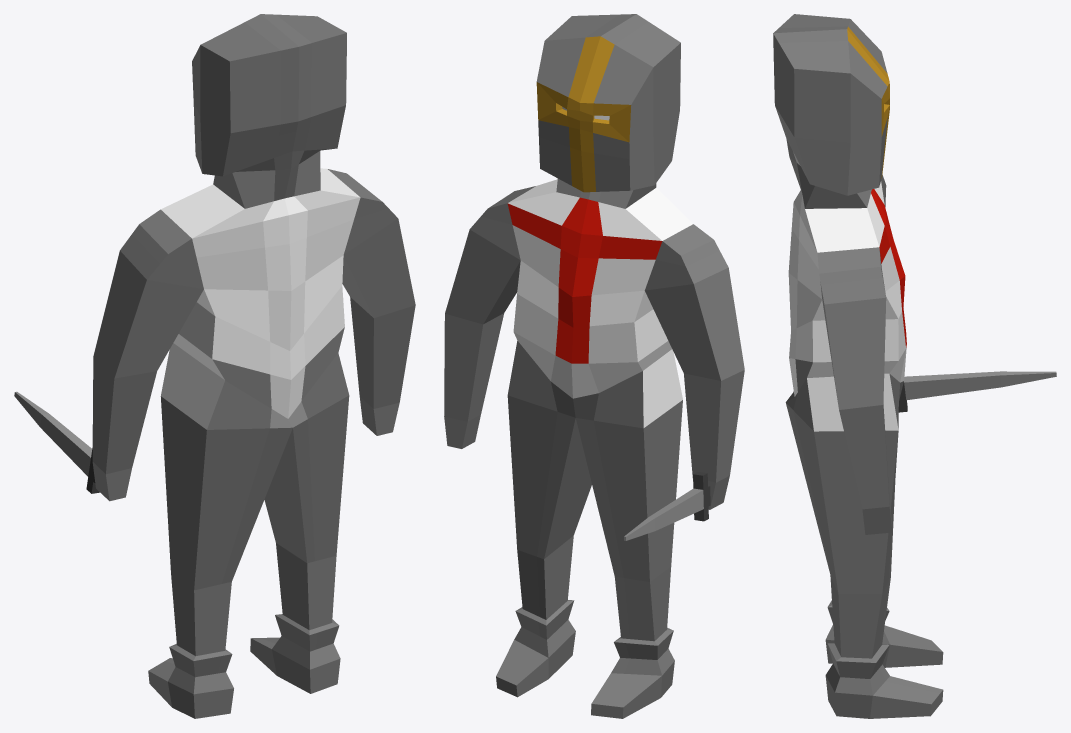
The model's file is KNIGHJT.fbx.
3 renders of one model, left to right at view 1: azimuth 30°, elevation 25°; view 2: azimuth 150°, elevation 25°; view 3: azimuth 270°, elevation 25°, orthographic. The views are drawn at different scales.
Parts seen in each view (by area): view 1: Cube, Cube.001; view 2: Cube, Cube.001; view 3: Cube, Cube.001.
Boxes of the visible parts, box(x1,y1,x2,y2) form: Cube: box(92, 14, 415, 718); Cube.001: box(14, 391, 99, 493); Cube: box(444, 14, 744, 718); Cube.001: box(624, 472, 710, 540); Cube: box(773, 14, 943, 718); Cube.001: box(898, 371, 1056, 412).
Bounding box in the file's own units: 283 × 615 × 241.
